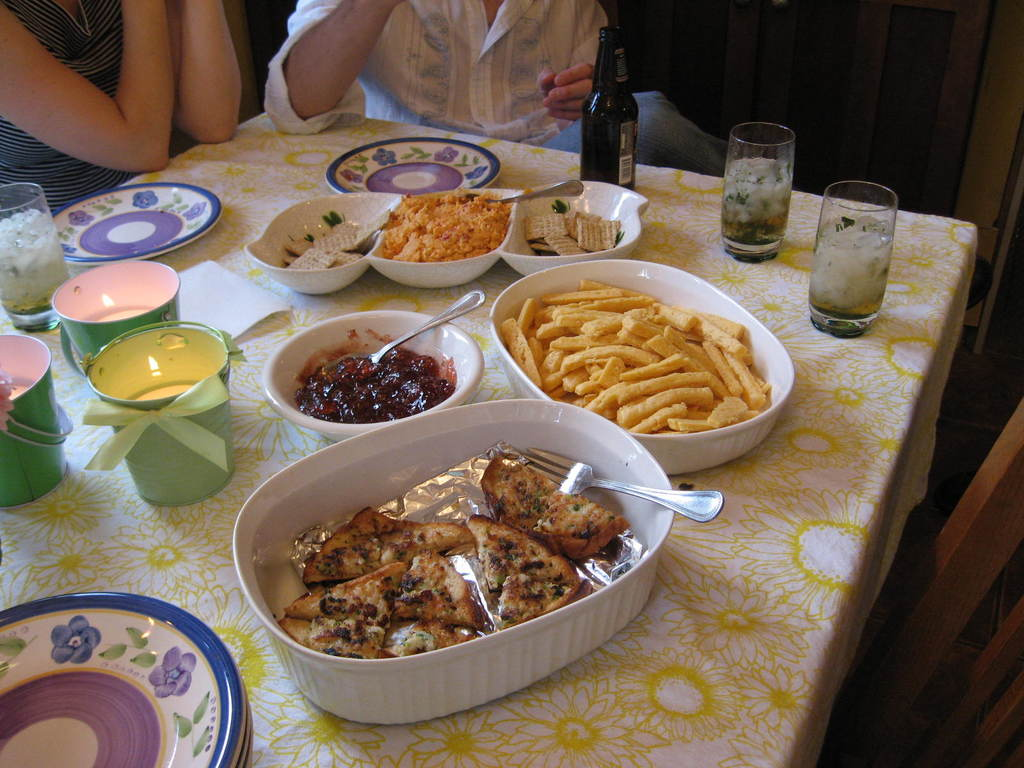French fries: (480, 279, 801, 460)
